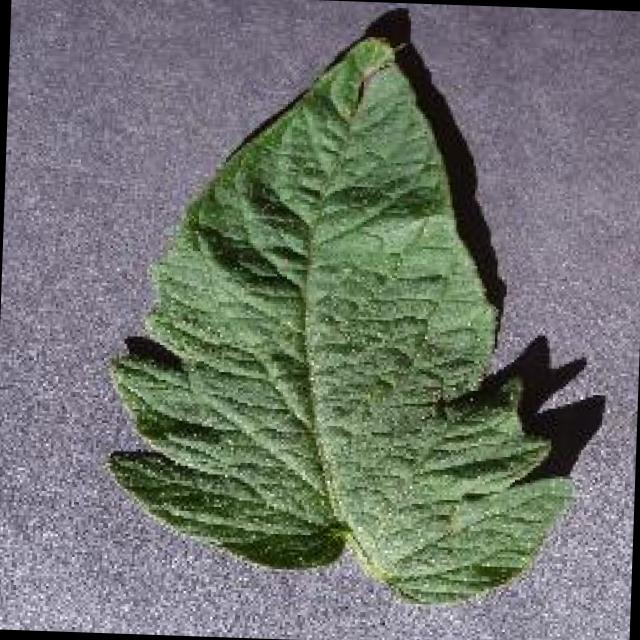Tomato_Healthy: (99, 34, 592, 615)
